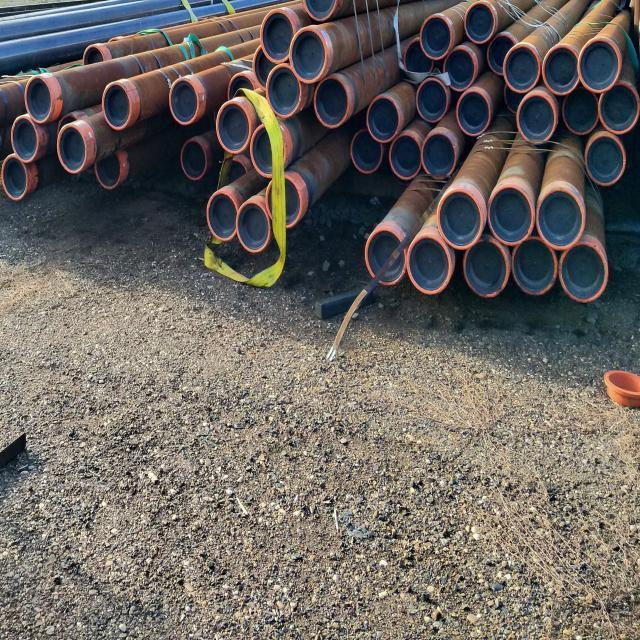pipe: (536, 186, 584, 250), (559, 240, 607, 303), (462, 237, 510, 299), (437, 188, 482, 250), (487, 186, 534, 245), (406, 234, 451, 295), (511, 236, 556, 295), (365, 228, 406, 285), (577, 38, 620, 92), (598, 81, 639, 135), (516, 91, 555, 147), (585, 133, 624, 188), (289, 27, 327, 83), (250, 122, 286, 178), (265, 176, 303, 228), (265, 64, 301, 118), (260, 10, 295, 64), (561, 89, 600, 137), (542, 45, 579, 95), (314, 76, 349, 128), (503, 43, 540, 92), (216, 101, 250, 154), (236, 200, 269, 253), (421, 131, 456, 180), (388, 133, 422, 181), (366, 95, 399, 143), (456, 90, 490, 135), (443, 45, 475, 92), (207, 192, 237, 240), (56, 126, 86, 173), (350, 130, 382, 174), (415, 78, 447, 122), (420, 15, 451, 60), (168, 77, 198, 123), (102, 82, 130, 131), (464, 1, 495, 44), (487, 33, 517, 75), (403, 38, 433, 80), (25, 76, 51, 123), (11, 118, 37, 164), (1, 155, 27, 201), (181, 139, 207, 181), (94, 151, 121, 189), (253, 44, 272, 90), (226, 73, 256, 102), (504, 80, 527, 116), (303, 0, 337, 22), (83, 44, 105, 68)
